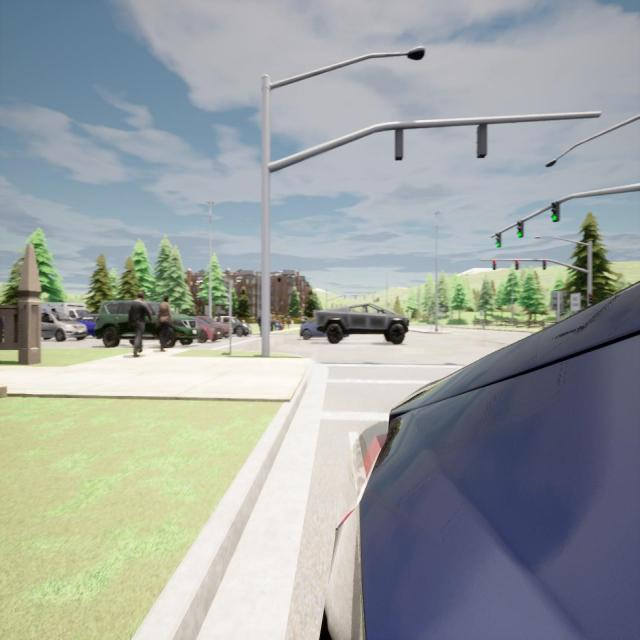Pedestrian: (130, 291, 152, 357), (158, 294, 174, 352), (271, 311, 275, 331), (258, 314, 261, 336), (280, 315, 284, 330), (276, 314, 279, 330), (288, 314, 290, 329)
Traffic_Signs: (552, 291, 564, 311), (570, 293, 581, 310)
Vehicle: (317, 281, 639, 640), (92, 298, 198, 348), (318, 302, 409, 344), (38, 305, 87, 341), (61, 302, 94, 334), (199, 316, 229, 336), (200, 321, 223, 344), (300, 314, 319, 339), (230, 316, 252, 336)
traffic_light: (477, 121, 487, 158), (395, 124, 403, 160), (552, 202, 560, 222), (517, 220, 524, 238), (496, 232, 502, 248), (588, 293, 594, 304), (515, 260, 519, 270), (542, 260, 546, 270), (493, 260, 496, 270)
